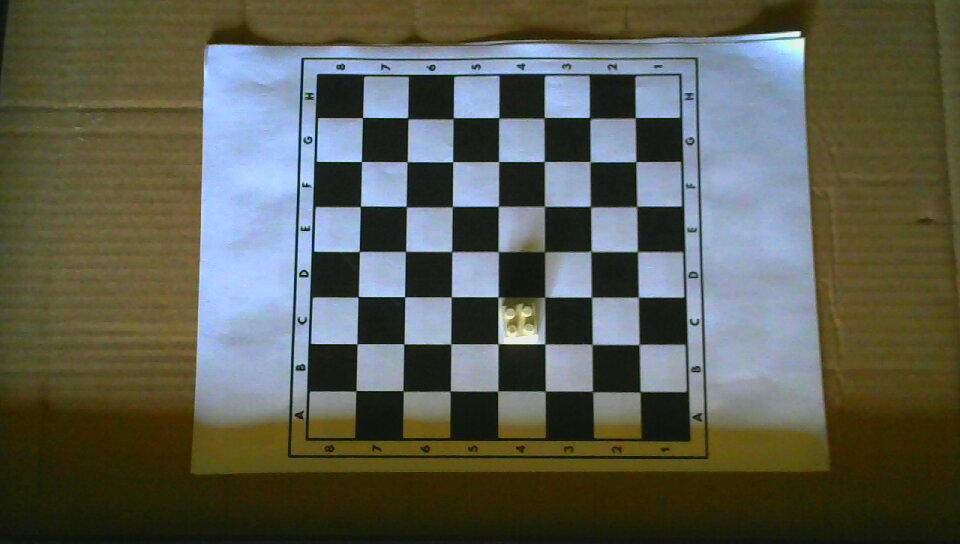wp: (498, 301, 539, 341)
